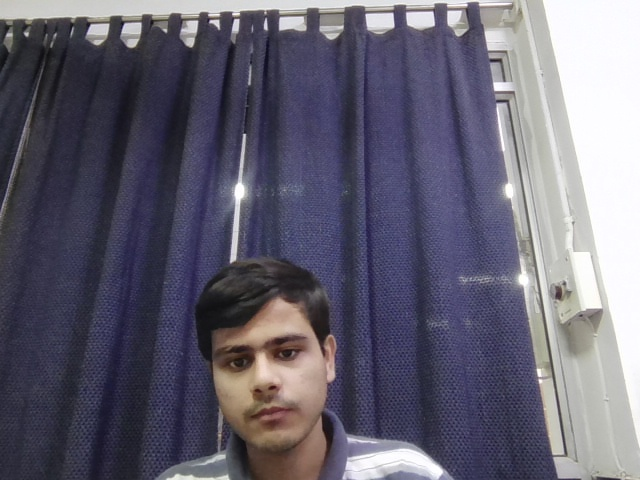face: (197, 258, 339, 451)
